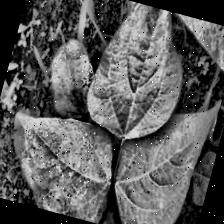Bean Rust: (98, 84, 221, 224), (0, 107, 125, 224), (36, 35, 110, 125), (138, 6, 224, 82)
